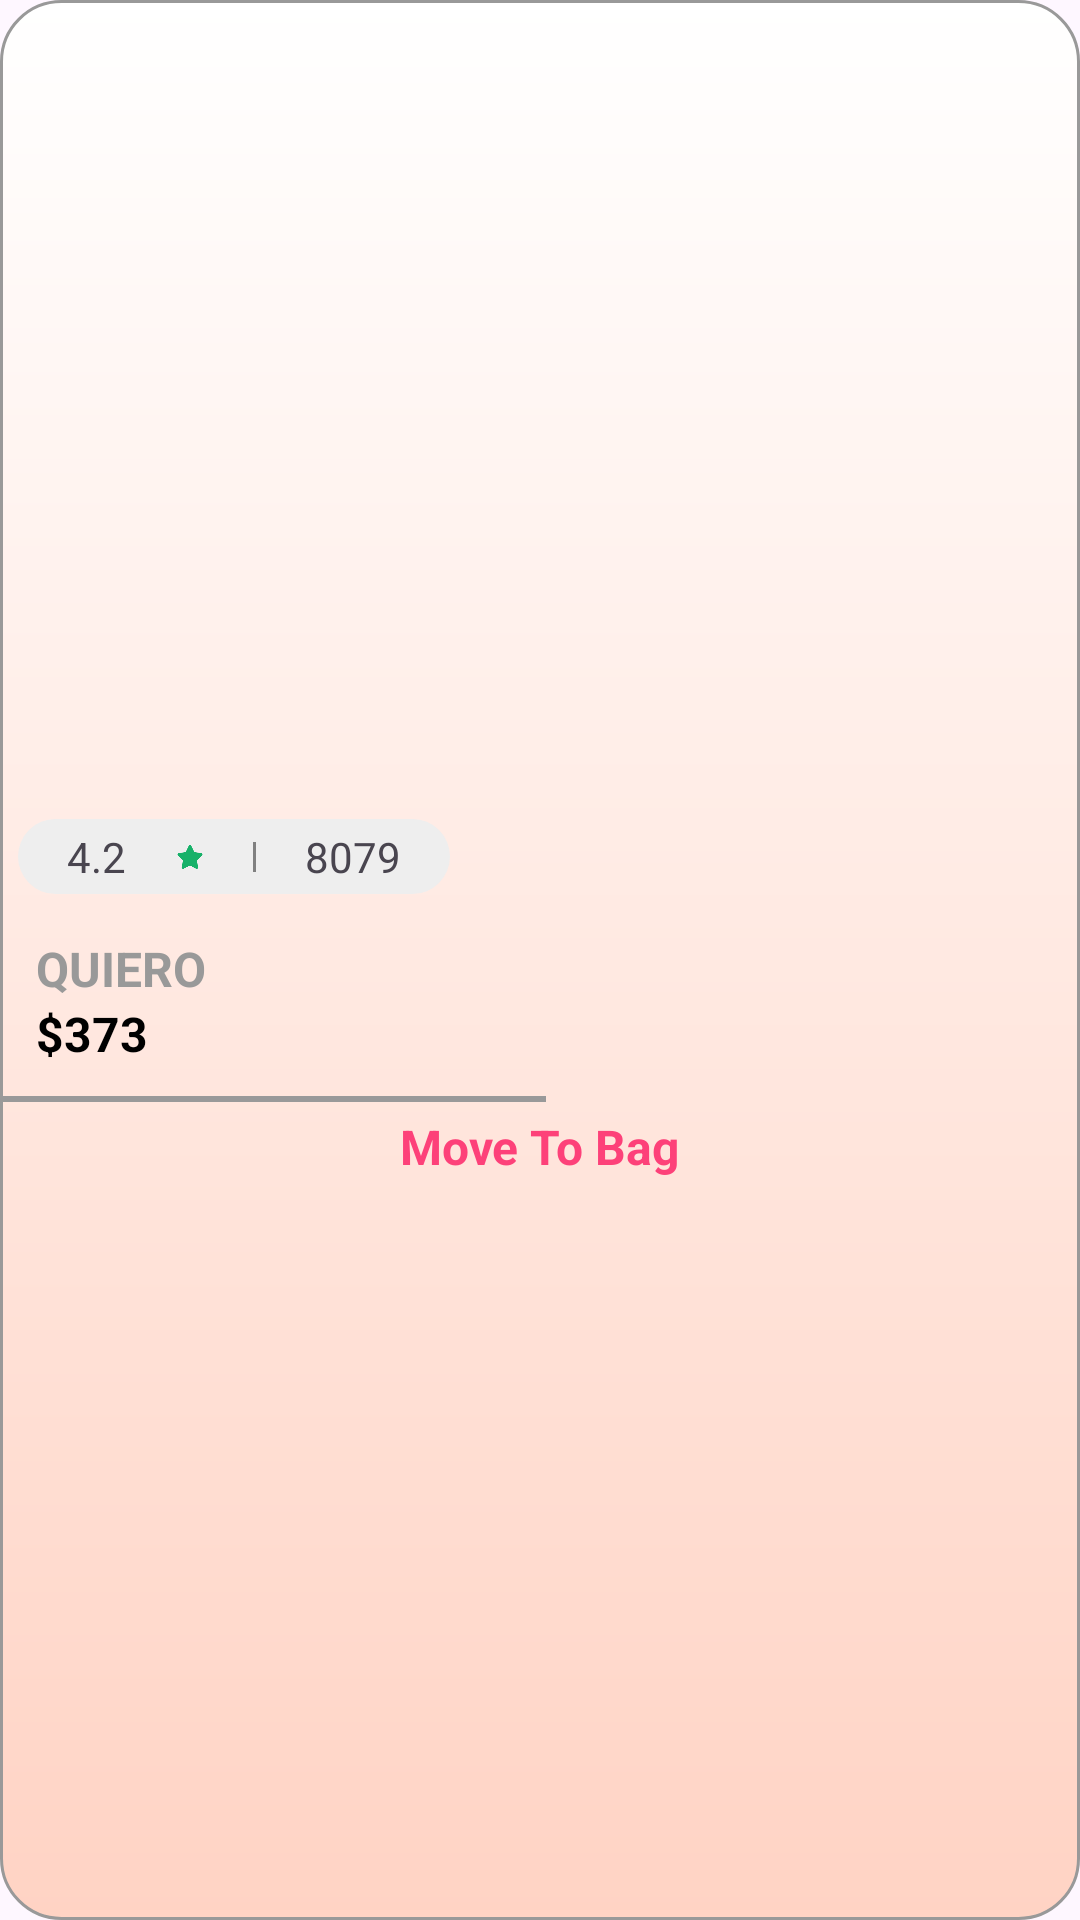

Icon click points for this 1080*1920 phone screenshot, format point (x, y):
star: point (190, 857)
